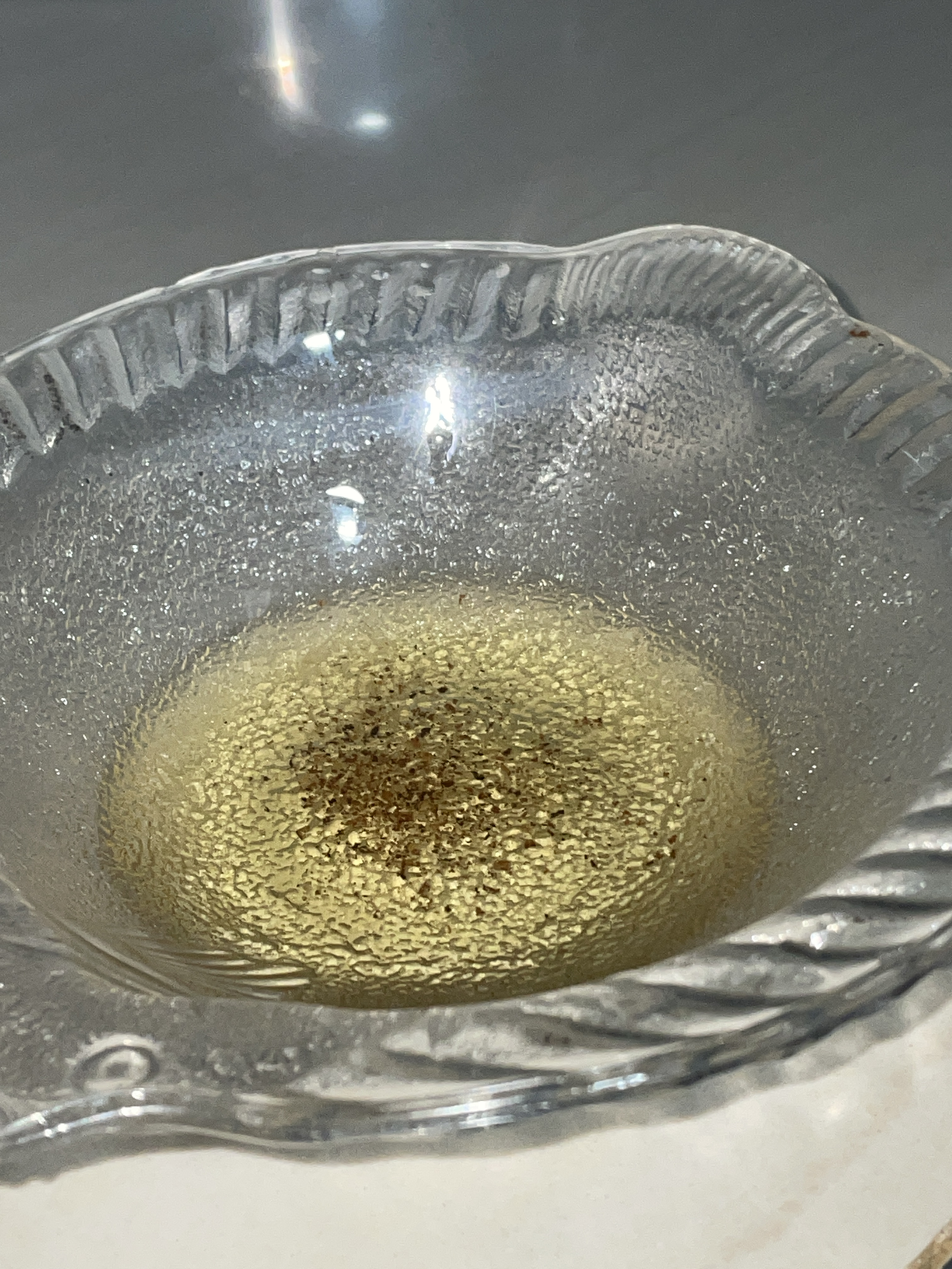reusable: (104, 595, 765, 1004)
